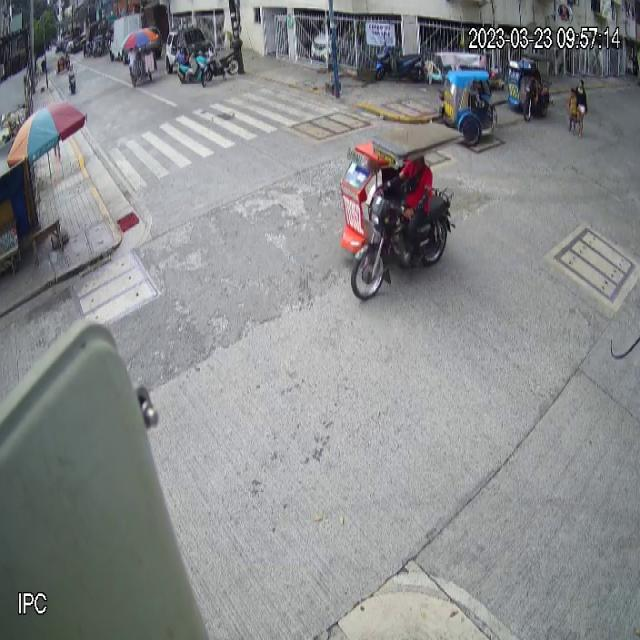Tricycle: (339, 122, 463, 303), (424, 51, 499, 147)
